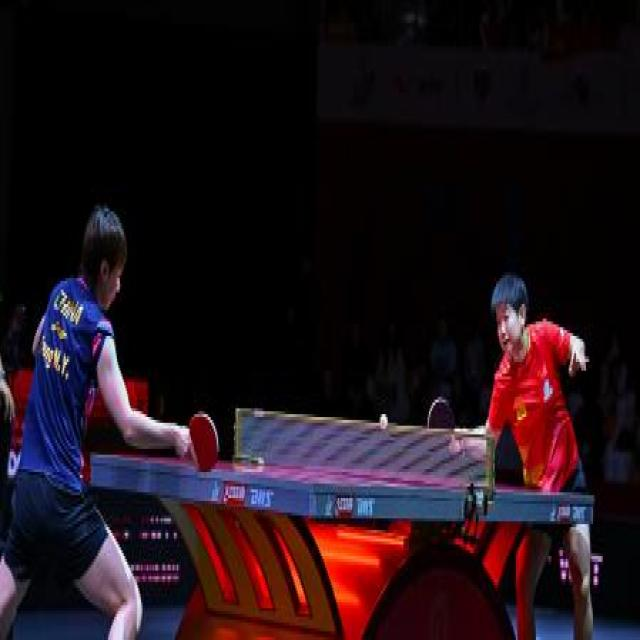TT Net: (232, 404, 496, 504)
TT Racket: (184, 402, 227, 481), (422, 387, 459, 457)
TT Table: (92, 453, 592, 496)
